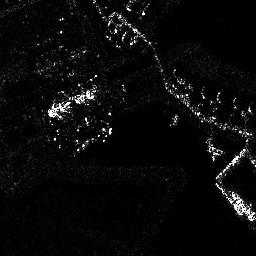ship: (226, 189, 256, 224)
